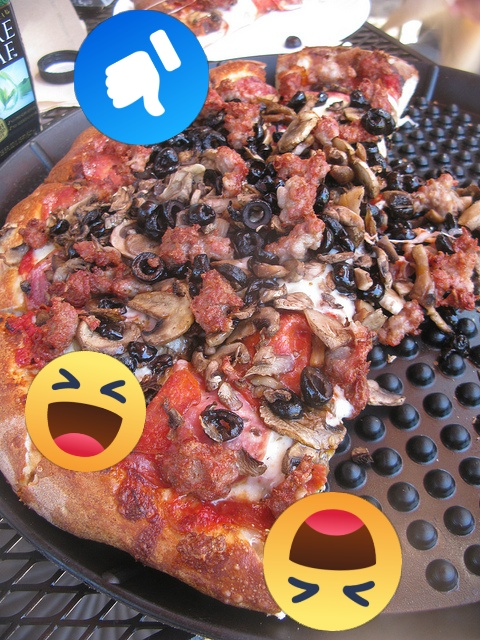haha: (263, 492, 402, 631), (25, 351, 146, 472)
like: (74, 10, 209, 145)
